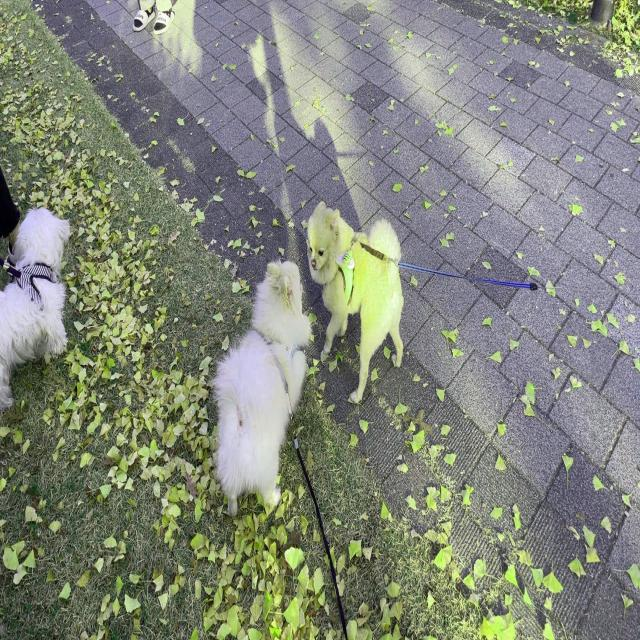Dog: (214, 260, 312, 518), (306, 198, 403, 404), (0, 207, 71, 409)
